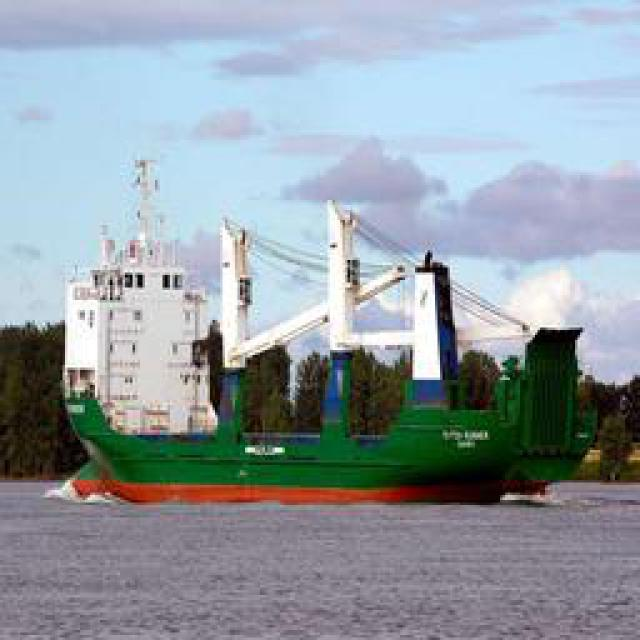Ship: (49, 157, 594, 510)
